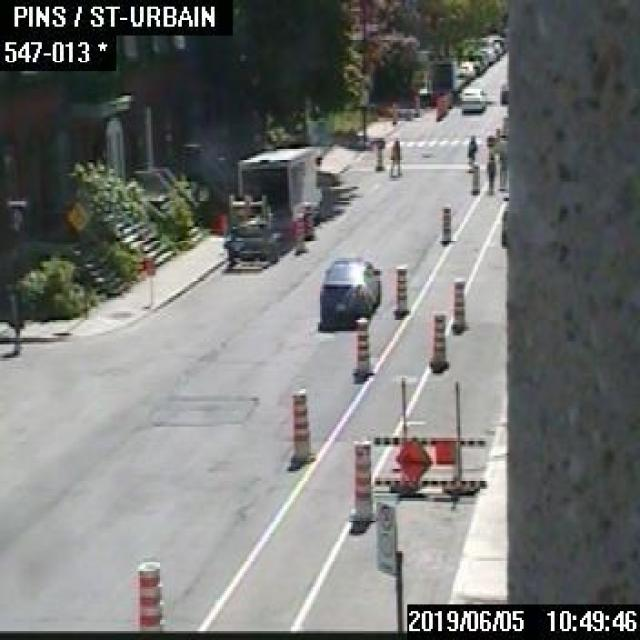construction: (372, 376, 489, 494), (346, 435, 376, 521), (133, 560, 160, 633), (287, 389, 311, 462), (353, 316, 369, 378), (431, 309, 445, 371), (138, 254, 156, 302), (392, 264, 407, 316), (451, 278, 464, 331), (438, 205, 449, 242), (295, 217, 304, 251), (374, 142, 382, 171), (471, 167, 478, 193)
pedestrian: (387, 136, 401, 176), (484, 149, 495, 193), (497, 145, 508, 189), (464, 131, 476, 171)
vehicle: (234, 144, 323, 235), (317, 255, 380, 327), (223, 216, 280, 262), (458, 85, 486, 110), (458, 59, 478, 76), (469, 49, 486, 68), (499, 80, 508, 103)
